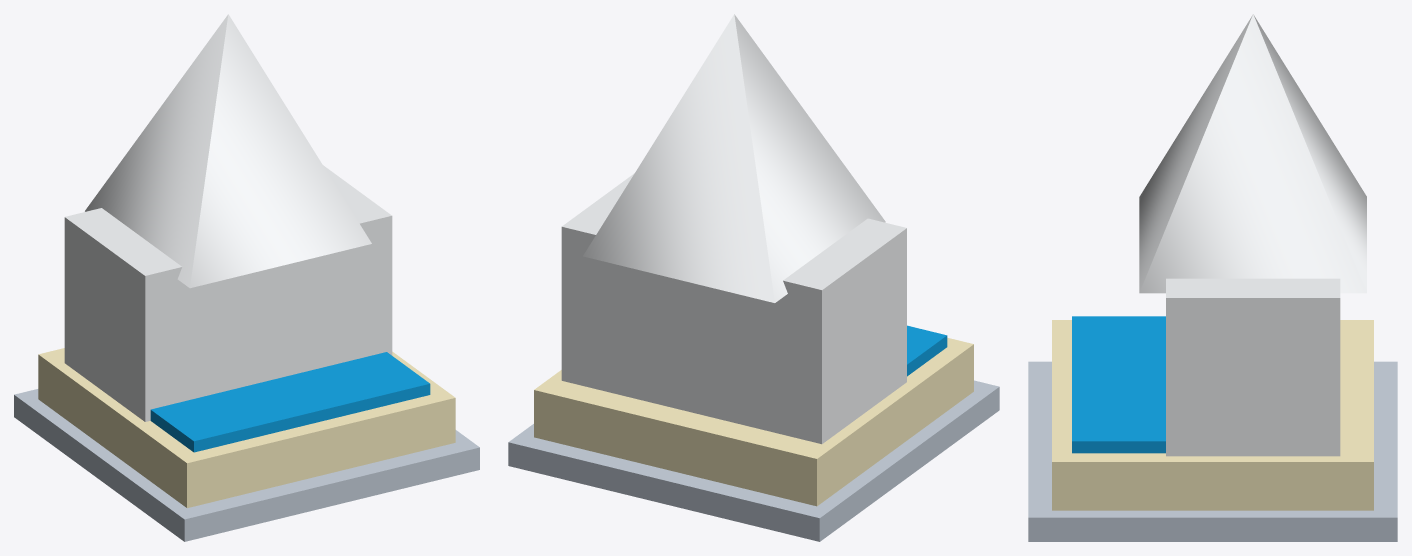
File: bld_c3_cell_11.glb
3 views of the same model, side by side, from view 1: azimuth 30°, elevation 25°; view 2: azimuth 150°, elevation 25°; view 3: azimuth 270°, elevation 25° (orthographic). The views are drawn at different scales.
Visible parts, largest first — view 1: Bld_C3_Cell_11_BespokeLandmark; view 2: Bld_C3_Cell_11_BespokeLandmark; view 3: Bld_C3_Cell_11_BespokeLandmark.
Boxes of the visible parts, box(x1,y1,x2,y2) form: Bld_C3_Cell_11_BespokeLandmark: box(14, 14, 479, 541); Bld_C3_Cell_11_BespokeLandmark: box(508, 14, 999, 541); Bld_C3_Cell_11_BespokeLandmark: box(1028, 14, 1397, 541).
Size of the model in its own units: 0.55 by 0.74 by 0.55.
